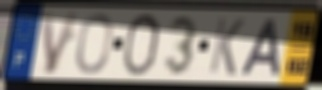3: (163, 14, 200, 77)
A: (239, 17, 283, 78)
K: (207, 15, 247, 78)
O: (120, 12, 163, 78), (74, 12, 115, 76)
V: (40, 9, 82, 77)
